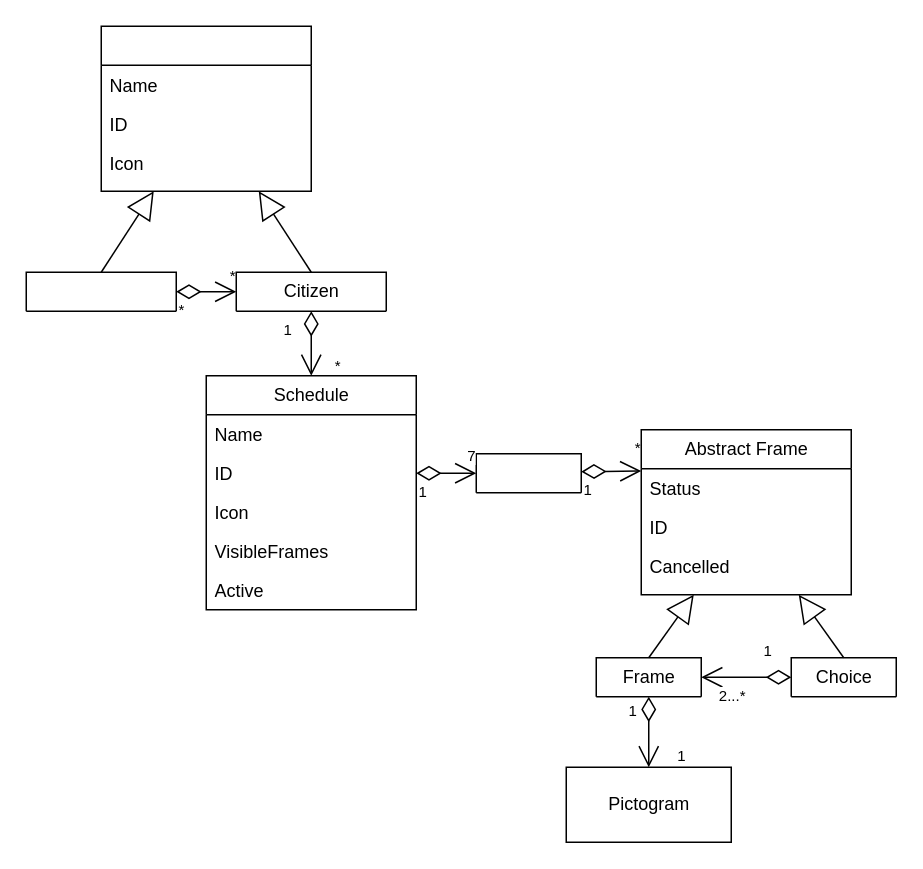
Image size: 923x869. Some labels were removed from this diagram. The shapes that lost their labels are listed below. From the top down, each one's box as (x1, y1, x2, y2) in pixels, then its label:
(100, 25, 311, 191): Person
(25, 271, 176, 311): Guardian
(475, 452, 581, 493): Day
